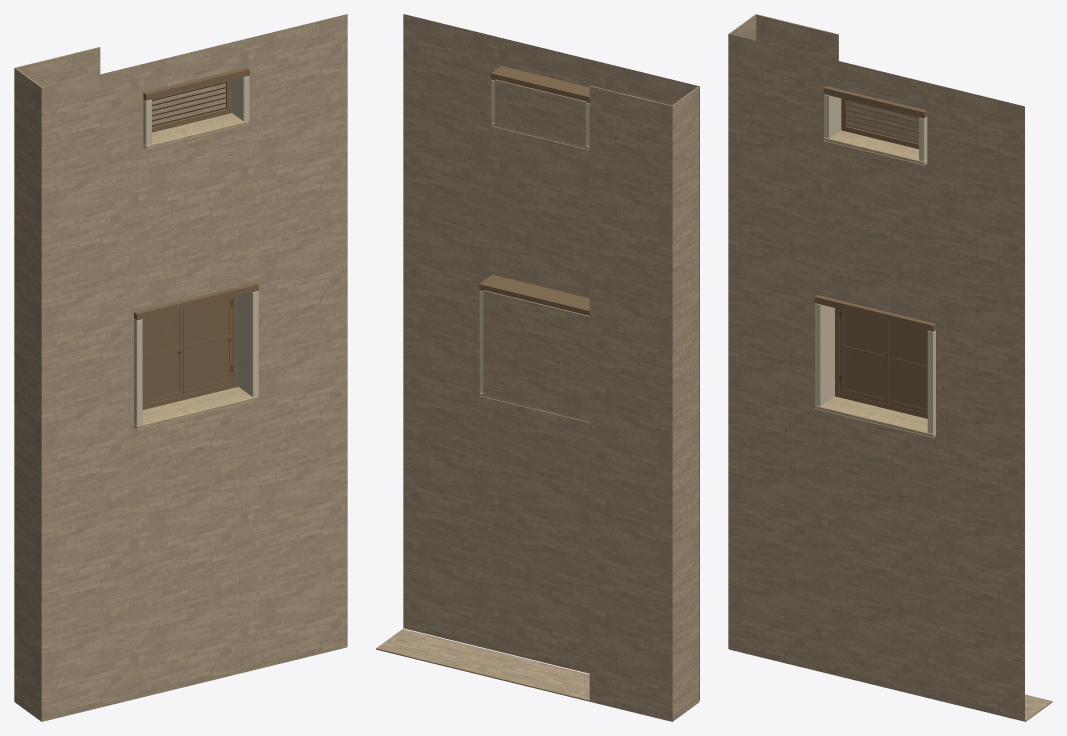
Rendered from covered-souk-receivers-north-court.glb.
3 views of the same model, side by side, from view 1: azimuth 30°, elevation 25°; view 2: azimuth 150°, elevation 25°; view 3: azimuth 330°, elevation 25° (orthographic). The views are drawn at different scales.
Parts seen in each view (by area): view 1: bz06_service_stone-cast, bz04_craft_warm_timber-cast, bz06_pale_lime-cast, bz06_monolithic_stone_trim-cast; view 2: bz06_service_stone-cast, bz04_craft_warm_timber-cast, bz06_pale_lime-cast, bz06_monolithic_stone_trim-cast; view 3: bz06_service_stone-cast, bz04_craft_warm_timber-cast, bz06_pale_lime-cast, bz06_monolithic_stone_trim-cast.
Part boxes in pixels (box(x1,y1,x2,y2)): bz06_service_stone-cast: box(14, 14, 347, 721); bz04_craft_warm_timber-cast: box(134, 67, 258, 409); bz06_pale_lime-cast: box(134, 76, 258, 425); bz06_monolithic_stone_trim-cast: box(134, 113, 258, 429); bz06_service_stone-cast: box(376, 14, 699, 721); bz04_craft_warm_timber-cast: box(479, 66, 589, 315); bz06_pale_lime-cast: box(479, 79, 589, 393); bz06_monolithic_stone_trim-cast: box(479, 123, 589, 423); bz06_service_stone-cast: box(728, 14, 1052, 721); bz04_craft_warm_timber-cast: box(814, 86, 935, 418); bz06_pale_lime-cast: box(815, 94, 935, 433); bz06_monolithic_stone_trim-cast: box(815, 130, 935, 437).
Bounding box in the file's own units: 5 × 9.92 × 0.88.
5 materials, 5 textured.
